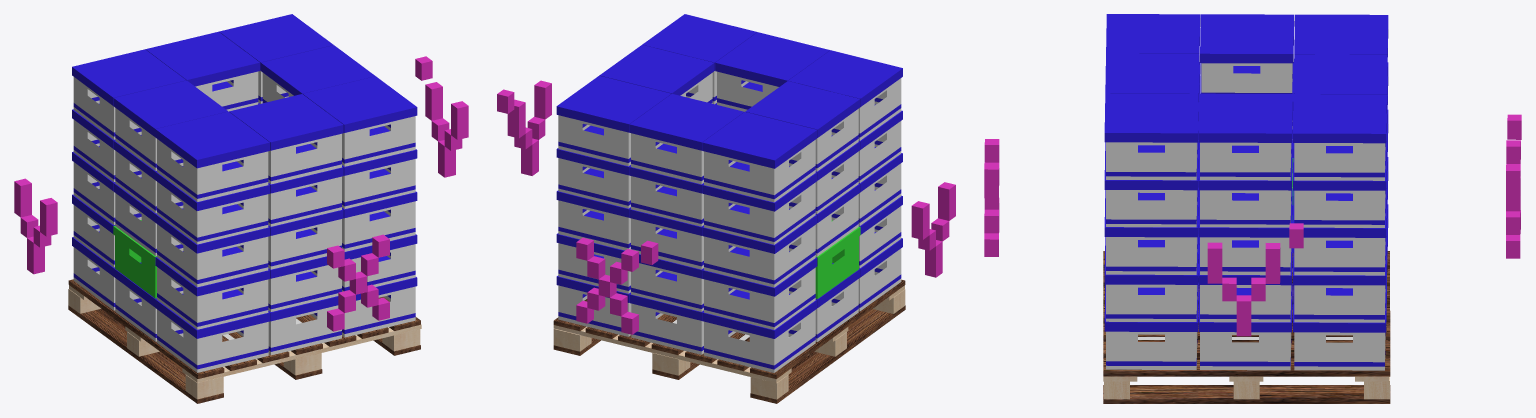
Rendered from caja122.gltf.
3 renders of one model, left to right at view 1: azimuth 30°, elevation 25°; view 2: azimuth 150°, elevation 25°; view 3: azimuth 270°, elevation 25°, orthographic. The views are drawn at different scales.
Parts seen in each view (by area): view 1: Cube.031_1, Cube.026_1, Cube.033_1, Cube.032_1, Cube.029_1, Cube.030_1, Cube.027_1, Cube.004_0, Cube.020_0, Cube.031_0, Cube.012_0, Cube.039_0 (+53 smaller); view 2: Cube.029_1, Cube.032_1, Cube.028_1, Cube.033_1, Cube.030_1, Cube.031_1, Cube.027_1, Cube.007_0, Cube.022_0, Cube.029_0, Cube.014_0, Cube.037_0 (+53 smaller); view 3: Cube.026_1, Cube.028_1, Cube.027_1, Cube.030_1, Cube055, Cube.029_1, Cube.032_1, Cube.033_1, Cube.031_1, Cube.003_0, Cube.001_0, Cube.027_0 (+33 smaller).
Boxes of the visible parts, bbox=[...] form: Cube.031_1: bbox=[155, 111, 269, 198]; Cube.026_1: bbox=[303, 76, 417, 163]; Cube.033_1: bbox=[229, 94, 343, 181]; Cube.032_1: bbox=[145, 31, 259, 109]; Cube.029_1: bbox=[72, 49, 186, 136]; Cube.030_1: bbox=[113, 80, 227, 167]; Cube.027_1: bbox=[261, 45, 375, 102]; Cube.004_0: bbox=[157, 309, 268, 372]; Cube.020_0: bbox=[157, 224, 268, 287]; Cube.031_0: bbox=[157, 139, 268, 201]; Cube.012_0: bbox=[157, 267, 268, 329]; Cube.039_0: bbox=[157, 182, 268, 244]; Cube.029_1: bbox=[702, 112, 817, 199]; Cube.032_1: bbox=[629, 94, 744, 180]; Cube.028_1: bbox=[556, 75, 671, 162]; Cube.033_1: bbox=[715, 32, 830, 109]; Cube.030_1: bbox=[745, 81, 860, 168]; Cube.031_1: bbox=[788, 50, 902, 137]; Cube.027_1: bbox=[599, 45, 714, 103]; Cube.007_0: bbox=[704, 310, 815, 372]; Cube.022_0: bbox=[704, 225, 815, 287]; Cube.029_0: bbox=[704, 140, 815, 202]; Cube.014_0: bbox=[704, 267, 815, 329]; Cube.037_0: bbox=[704, 182, 815, 244]; Cube.026_1: bbox=[1104, 93, 1198, 176]; Cube.028_1: bbox=[1293, 94, 1386, 177]; Cube.027_1: bbox=[1198, 93, 1292, 176]; Cube.030_1: bbox=[1200, 14, 1294, 93]; Cube055: bbox=[1103, 385, 1390, 403]; Cube.029_1: bbox=[1294, 14, 1388, 56]; Cube.032_1: bbox=[1293, 54, 1387, 94]; Cube.033_1: bbox=[1105, 53, 1199, 101]; Cube.031_1: bbox=[1106, 14, 1200, 53]; Cube.003_0: bbox=[1294, 332, 1385, 370]; Cube.001_0: bbox=[1106, 331, 1197, 369]; Cube.027_0: bbox=[1200, 142, 1291, 180].
Size of the model in its own units: 4.23 by 2.33 by 4.22.
Materials: 82 (2 with a texture image).
